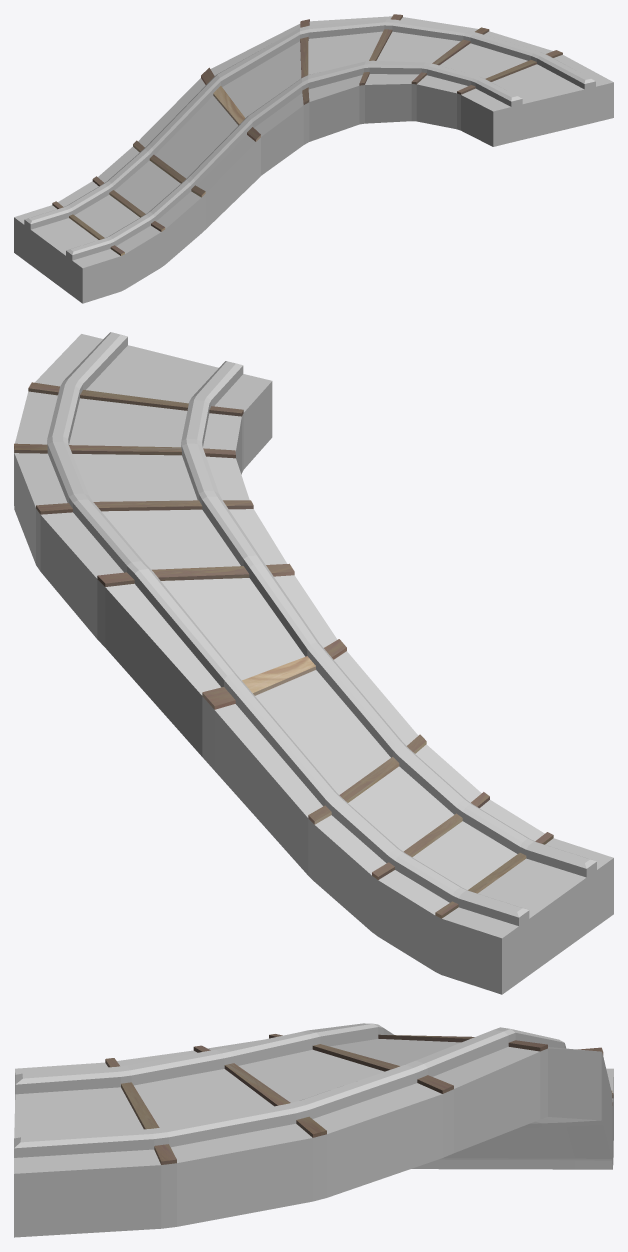
Rendered from Bend.fbx.
3 views of the same model, one above another, from view 1: azimuth 30°, elevation 25°; view 2: azimuth 150°, elevation 25°; view 3: azimuth 270°, elevation 25° (orthographic). The views are drawn at different scales.
Visible parts, largest first — view 1: Cube.001; view 2: Cube.001; view 3: Cube.001.
Boxes of the visible parts, x1,y1,x2,y2 form: Cube.001: (14,14,613,303); Cube.001: (14,332,613,994); Cube.001: (14,1023,613,1237).
Bounding box in the file's own units: 720 × 310 × 482.
